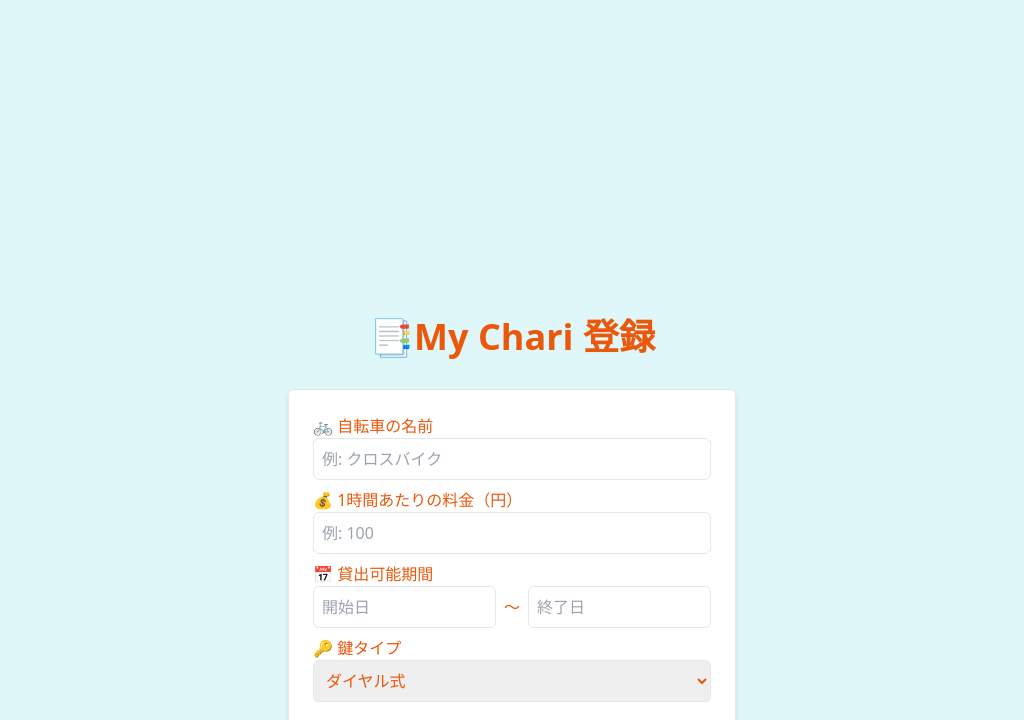
Scenario: RegisterBikePage › 開始日が未入力で終了日を入力するとエラーメッセージが表示される
The image size is (1024, 720).
Type "2025/03/10" into the field with placeholder "終了日" at (620, 607), box [528,586,711,628]
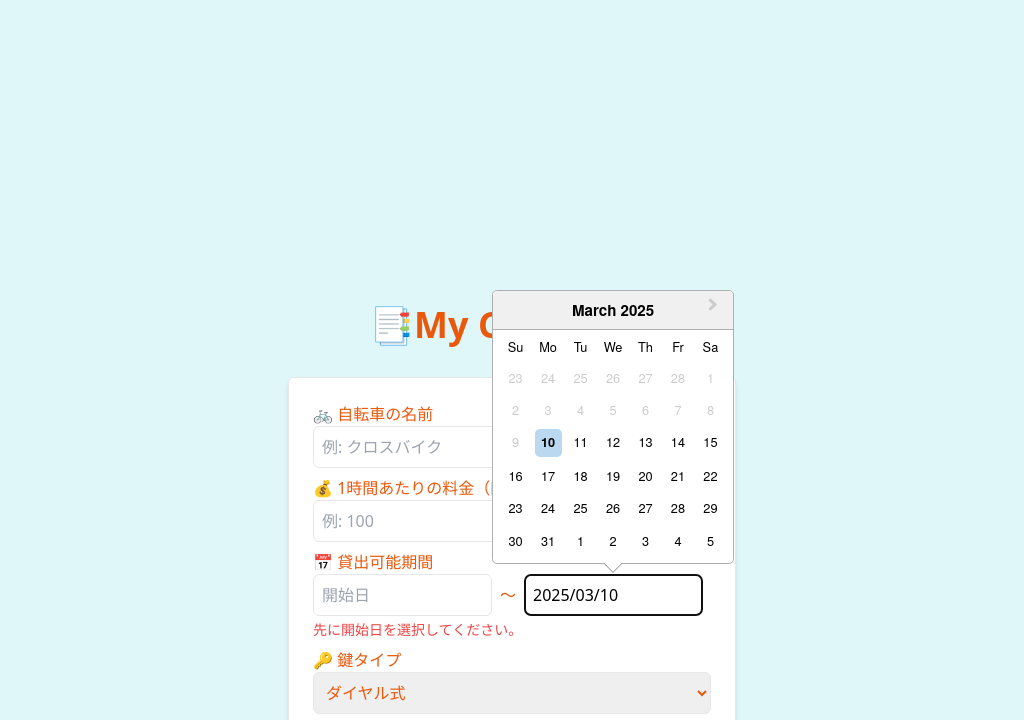
expect the text "先に開始日を選択してください。" is shown: met, box [313,620,522,639]
